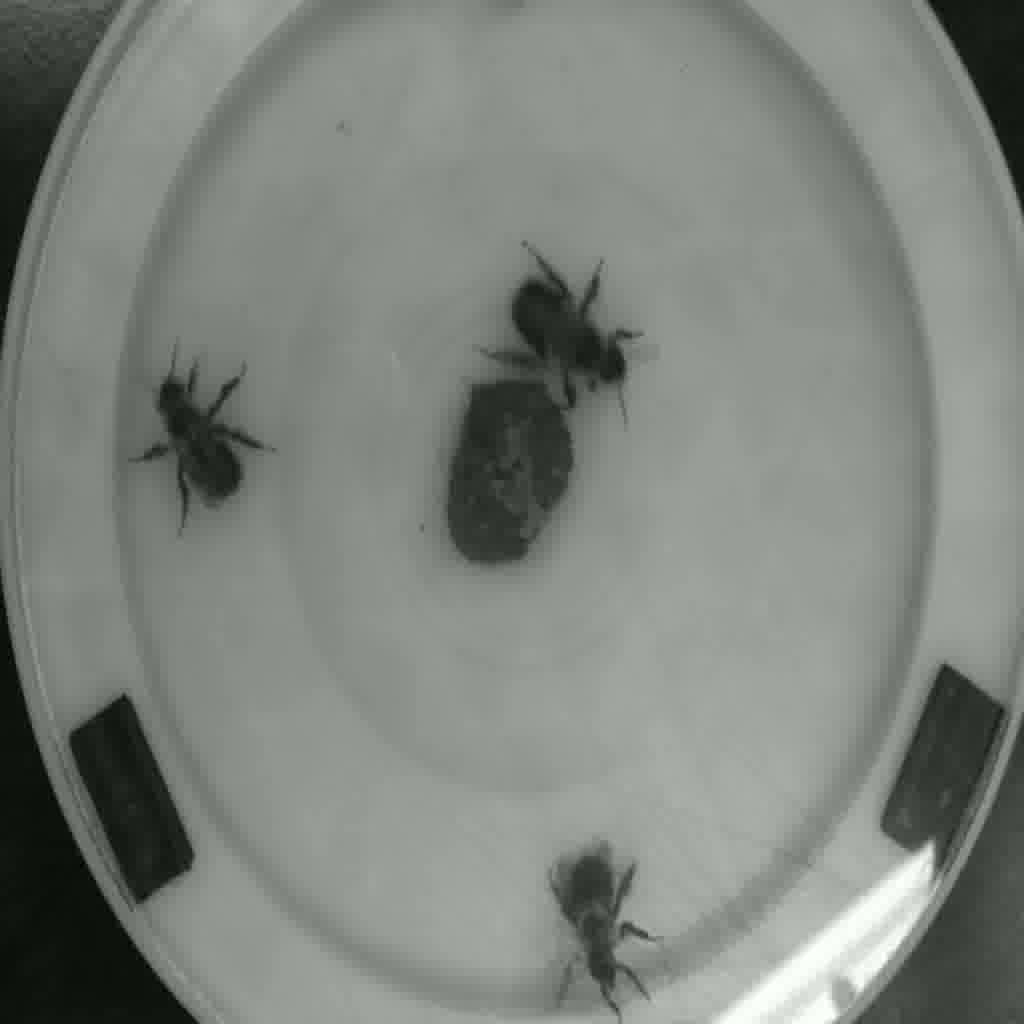bee: (501, 243, 649, 407), (544, 835, 664, 1024), (148, 376, 269, 529)
